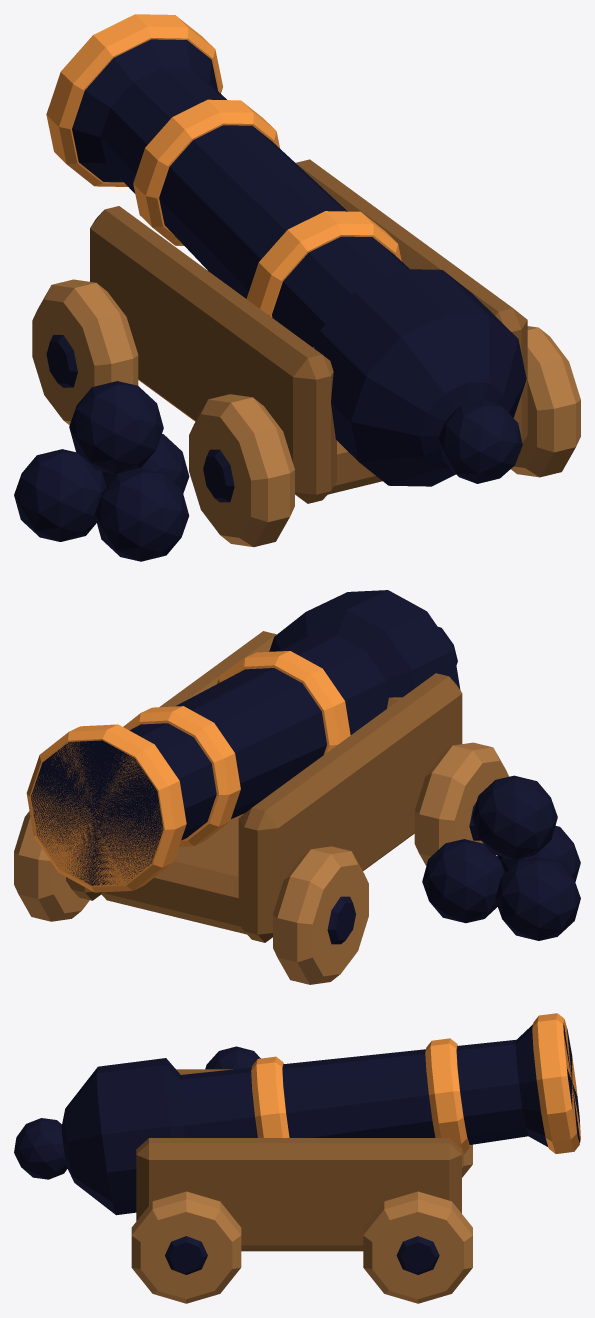
File: Prop_pirate_harbor_Cannon.glb
3 renders of one model, top to bottom at view 1: azimuth 30°, elevation 25°; view 2: azimuth 150°, elevation 25°; view 3: azimuth 270°, elevation 25°, orthographic. The views are drawn at different scales.
Visible parts, largest first — view 1: Iron_0D0F2B, WoodDark_8A5A2B, Wheel_B5793F, HarborOrange_FF9A3D; view 2: Iron_0D0F2B, WoodDark_8A5A2B, HarborOrange_FF9A3D, Wheel_B5793F; view 3: Iron_0D0F2B, WoodDark_8A5A2B, Wheel_B5793F, HarborOrange_FF9A3D.
Part boxes in pixels (<box>): Iron_0D0F2B: <box>14,39,526,561</box>; WoodDark_8A5A2B: <box>90,159,527,503</box>; Wheel_B5793F: <box>32,279,580,547</box>; HarborOrange_FF9A3D: <box>46,14,401,317</box>; Iron_0D0F2B: <box>31,590,580,944</box>; WoodDark_8A5A2B: <box>66,631,462,942</box>; HarborOrange_FF9A3D: <box>26,651,350,892</box>; Wheel_B5793F: <box>14,742,508,984</box>; Iron_0D0F2B: <box>14,1023,580,1274</box>; WoodDark_8A5A2B: <box>136,1069,461,1251</box>; Wheel_B5793F: <box>131,1144,472,1303</box>; HarborOrange_FF9A3D: <box>251,1013,580,1154</box>.
Bounding box in the file's own units: 6.63 × 4.04 × 9.05.
